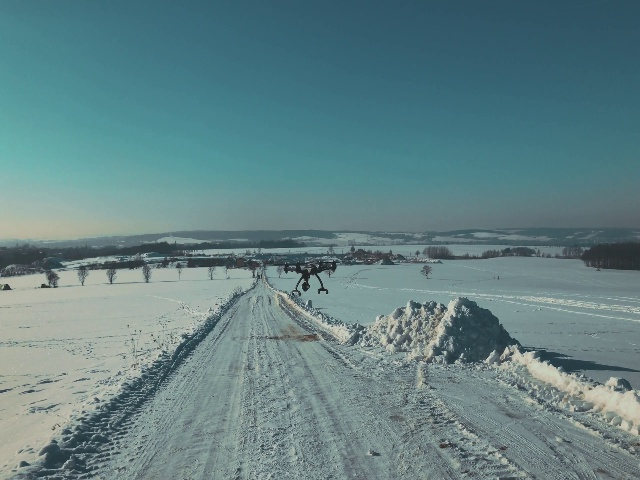drone: (274, 260, 342, 297)
